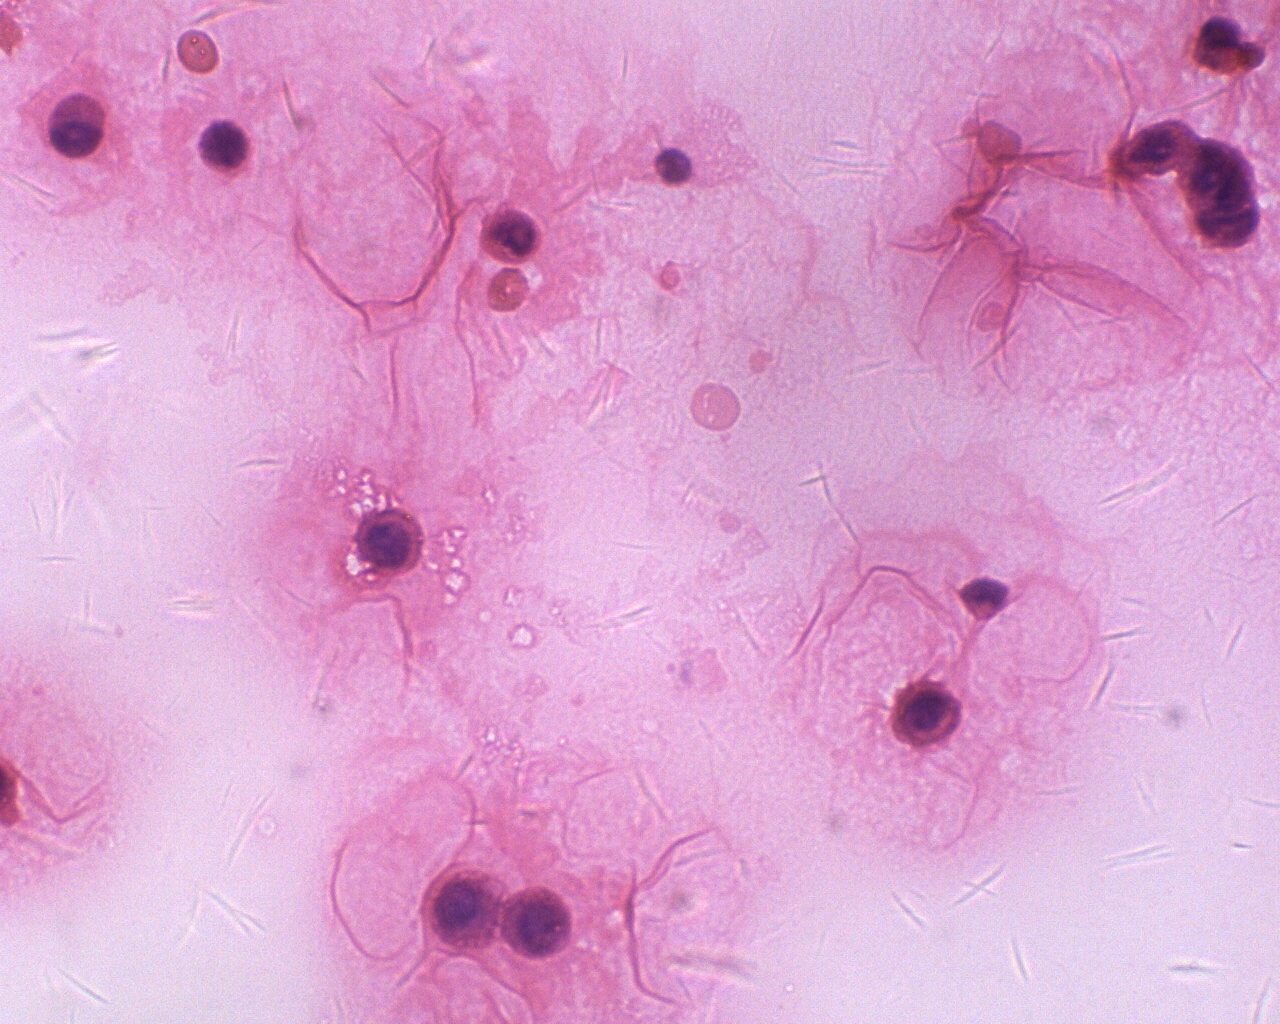ab: (427, 871, 506, 955), (502, 882, 577, 965), (888, 673, 967, 752), (1119, 112, 1200, 178), (478, 204, 548, 267)
meso: (354, 504, 430, 577), (45, 91, 110, 162)
